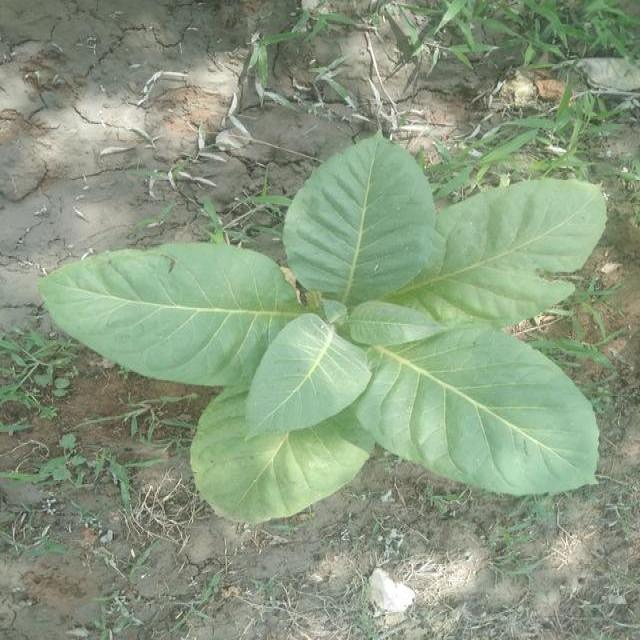crop: (35, 139, 614, 526)
